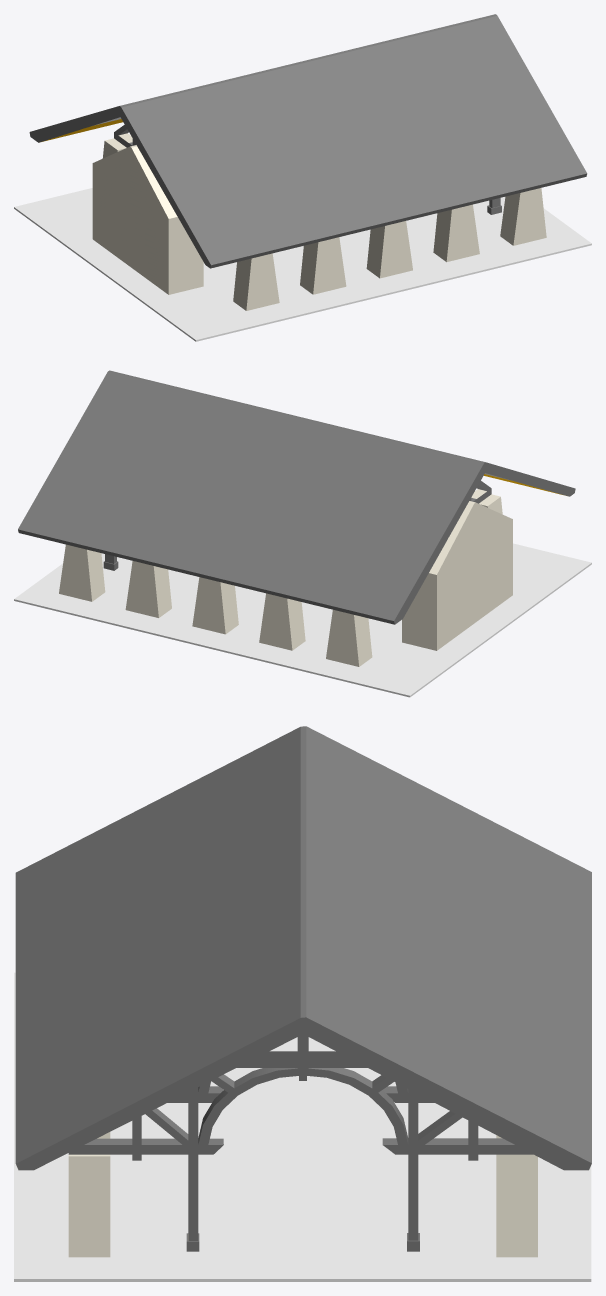
File: Pavilion.glb
3 renders of one model, top to bottom at view 1: azimuth 30°, elevation 25°; view 2: azimuth 150°, elevation 25°; view 3: azimuth 270°, elevation 25°, orthographic. The views are drawn at different scales.
Parts seen in each view (by area): view 1: Mesh1 Pavilion1 Model, Mesh2 Pavilion1 Model; view 2: Mesh1 Pavilion1 Model, Mesh2 Pavilion1 Model; view 3: Mesh1 Pavilion1 Model, Mesh2 Pavilion1 Model.
Boxes of the visible parts, <box> form: Mesh1 Pavilion1 Model: <box>29,14,587,310</box>; Mesh2 Pavilion1 Model: <box>14,188,591,341</box>; Mesh1 Pavilion1 Model: <box>18,370,575,666</box>; Mesh2 Pavilion1 Model: <box>14,543,591,697</box>; Mesh1 Pavilion1 Model: <box>15,726,591,1257</box>; Mesh2 Pavilion1 Model: <box>14,972,591,1281</box>.
Size of the model in its own units: 412 by 164 by 328.
